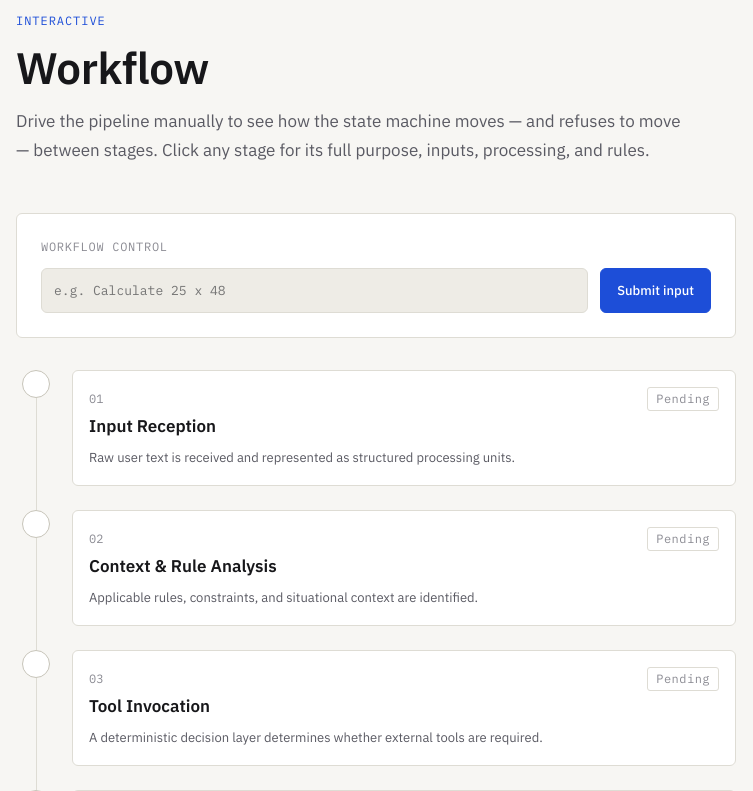
Test: Workflow page (integration) › resets back to the input form
In the field named "Request text": (315, 290) [41,268,588,313], type "Say hello"
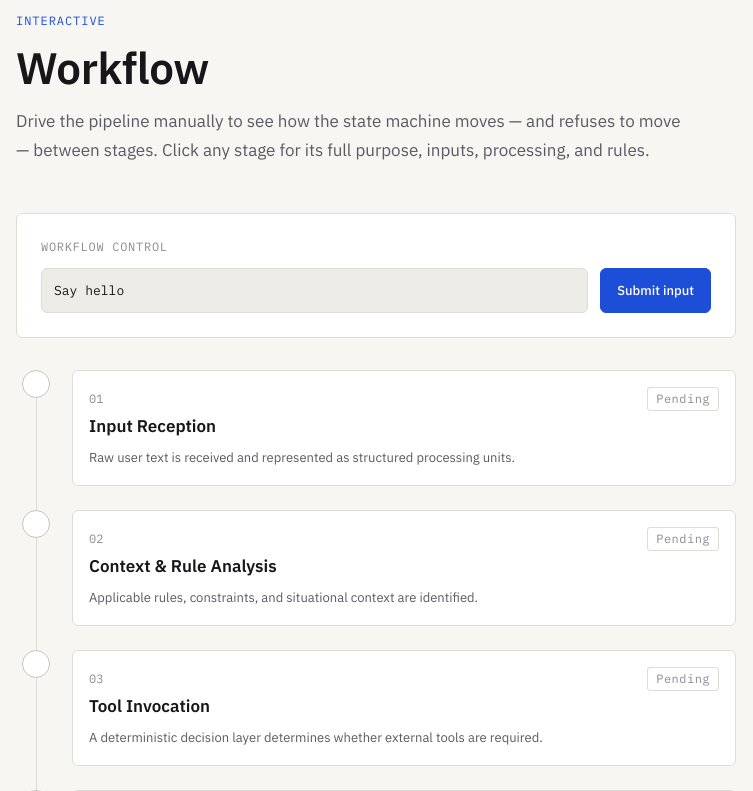
Click the button "Submit input": (656, 290) [600,268,711,313]
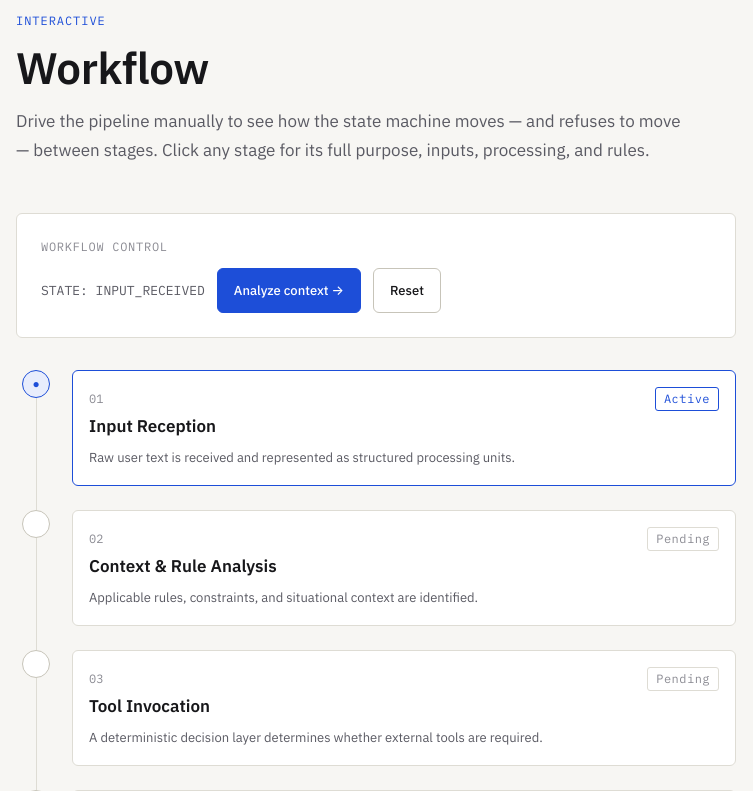
Click the button "Reset": (407, 290) [373,268,441,313]
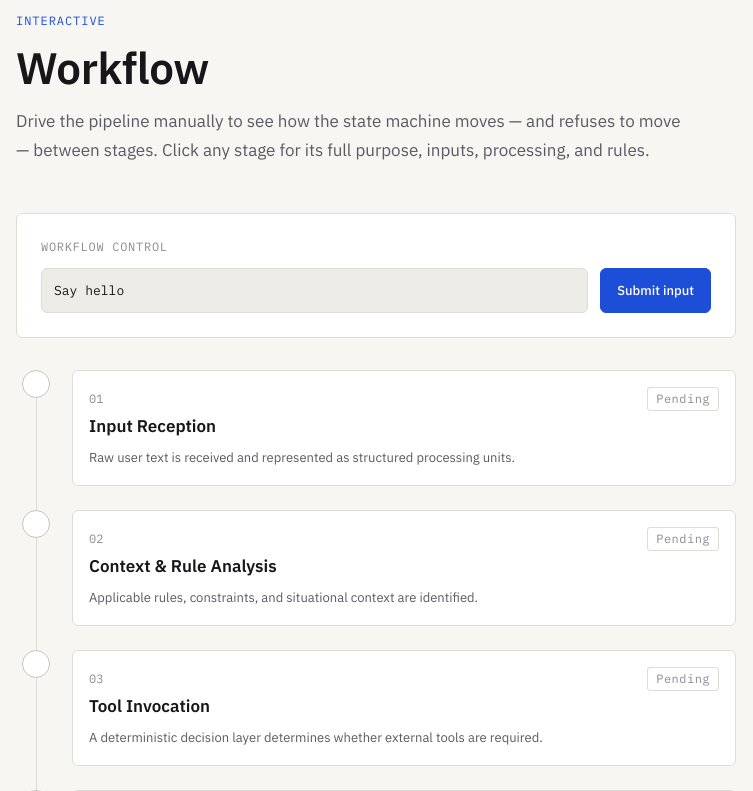
Now the button "Submit input" is shown, box [600,268,711,313]
